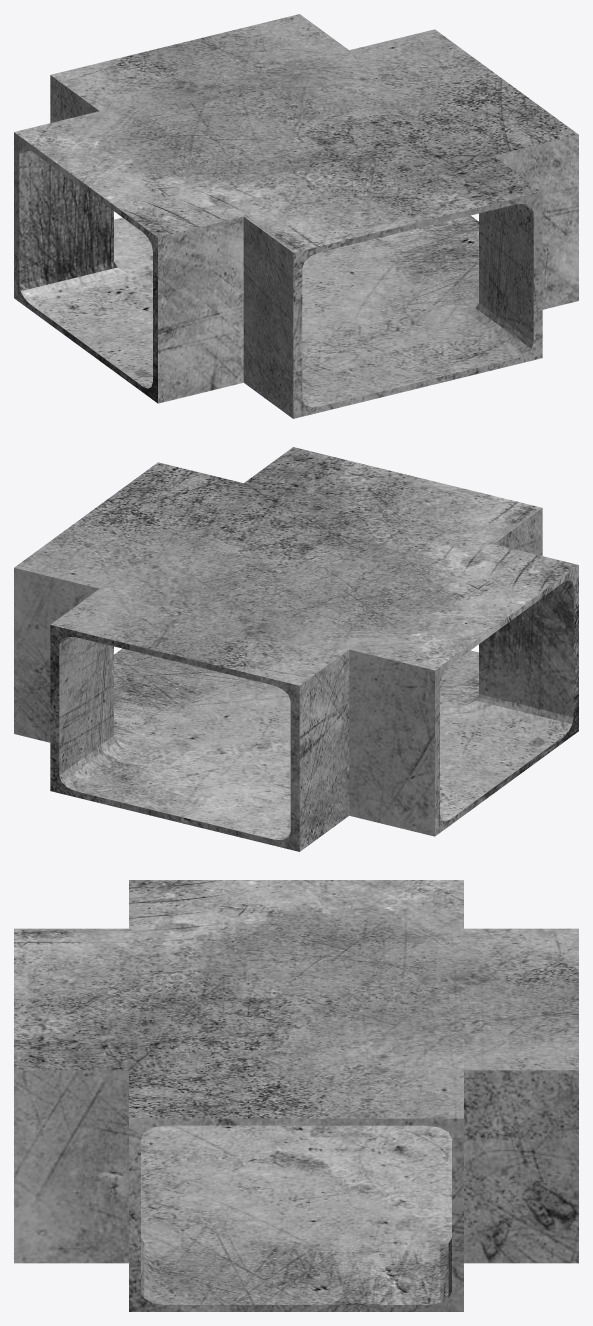
File: vent_cross.fbx
The picture shows the model from 3 angles, top to bottom: view 1: azimuth 30°, elevation 25°; view 2: azimuth 150°, elevation 25°; view 3: azimuth 270°, elevation 25°; orthographic projection. The views are drawn at different scales.
Parts seen in each view (by area): view 1: Cube.014; view 2: Cube.014; view 3: Cube.014.
Boxes of the visible parts, x1,y1,x2,y2 form: Cube.014: [14, 14, 578, 418]; Cube.014: [14, 447, 578, 851]; Cube.014: [14, 880, 578, 1311].
Bounding box in the file's own units: 4000 × 4000 × 1554.
